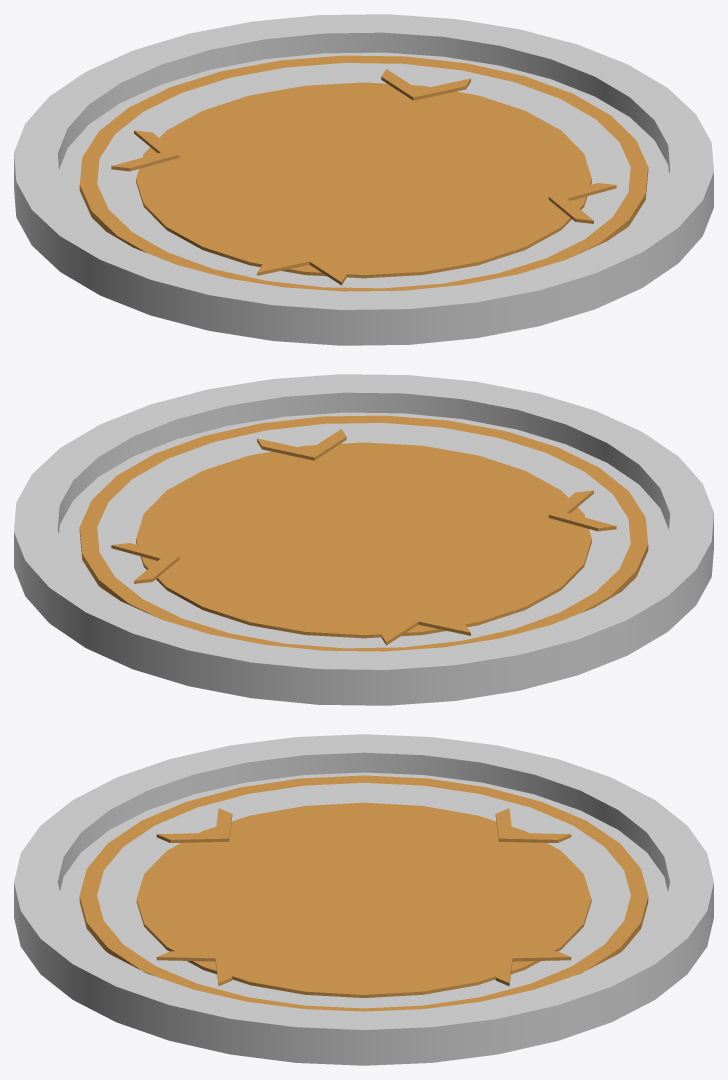
Rendered from ReturnPadRim.glb.
3 renders of one model, top to bottom at view 1: azimuth 30°, elevation 25°; view 2: azimuth 150°, elevation 25°; view 3: azimuth 270°, elevation 25°, orthographic.
Parts seen in each view (by area): view 1: Body, Glow; view 2: Body, Glow; view 3: Body, Glow.
Part boxes in pixels (x1,y1,x2,y2): Body: [14, 14, 713, 345]; Glow: [79, 55, 648, 291]; Body: [14, 374, 713, 705]; Glow: [79, 415, 648, 651]; Body: [14, 734, 713, 1065]; Glow: [79, 775, 648, 1011].
Size of the model in its own units: 8 by 0.45 by 8.
